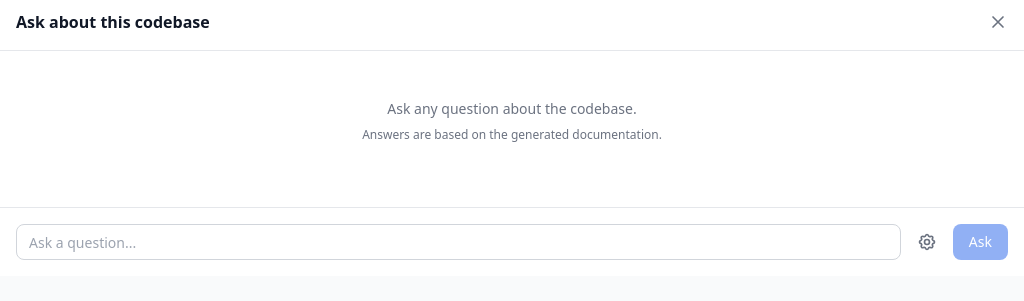
AskPanel › answer display › does not display XML tags in answer
The image size is (1024, 301).
In the text box with placeholder "Ask a question...": coordinates (458, 242) [16,224,901,260], type "Test question"
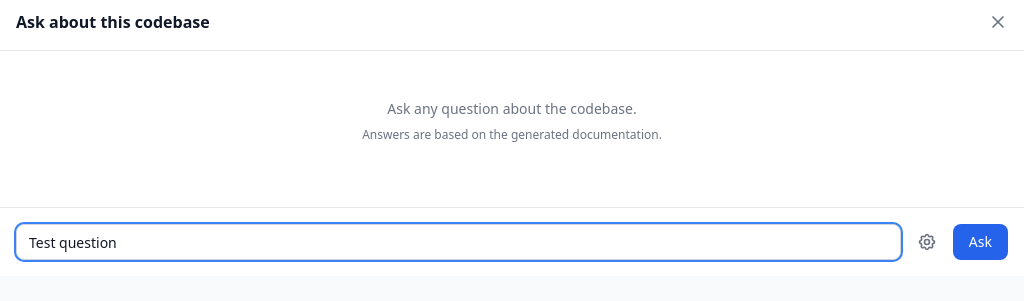
Click the button "Ask": coordinates (980, 242) [953,224,1008,260]
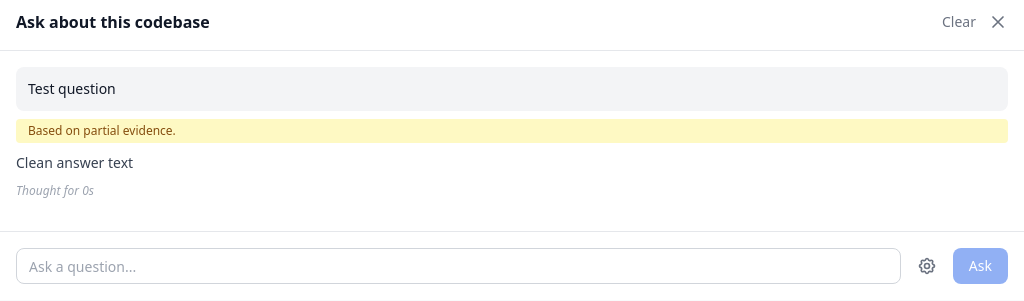
Expected: the text "Clean answer text" is shown, [16,153,133,172]
